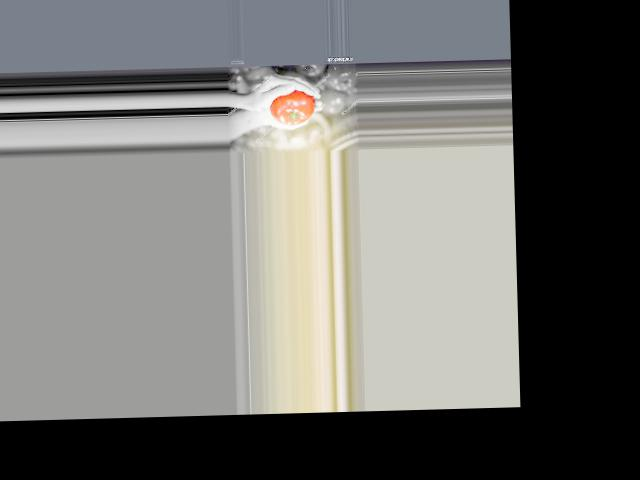tomato: (269, 89, 315, 125)
